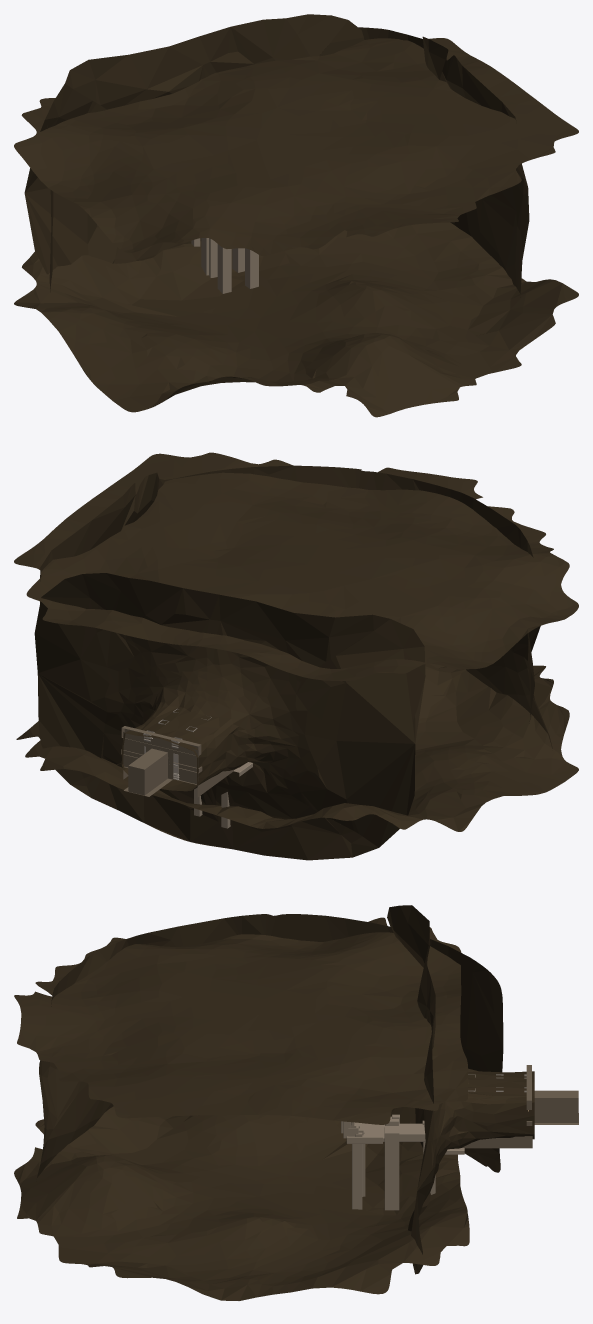
Rendered from RuinsFinalTest.fbx.
3 renders of one model, top to bottom at view 1: azimuth 30°, elevation 25°; view 2: azimuth 150°, elevation 25°; view 3: azimuth 270°, elevation 25°, orthographic. The views are drawn at different scales.
Visible parts, largest first — view 1: pPlane6, pPlane5, CliffFace2, BG1, Bridge, Bridge43, Bridge3; view 2: CliffFace2, pPlane6, pPlane5, BG1, pCube17, pCube53, Floor; view 3: pPlane6, pPlane5, BG1, CliffFace2, pCube53, Bridge2, Floor, Bridge3, Bridge27.
Boxes of the visible parts, left/top/right/bottom form: pPlane6: left=14, top=38, right=578, bottom=256; pPlane5: left=14, top=222, right=578, bottom=417; CliffFace2: left=24, top=14, right=364, bottom=274; BG1: left=47, top=27, right=529, bottom=297; Bridge: left=217, top=244, right=231, bottom=293; Bridge43: left=201, top=238, right=217, bottom=277; Bridge3: left=245, top=248, right=258, bottom=288; CliffFace2: left=34, top=573, right=425, bottom=860; pPlane6: left=14, top=452, right=578, bottom=681; pPlane5: left=16, top=663, right=578, bottom=831; BG1: left=40, top=465, right=552, bottom=748; pCube17: left=123, top=732, right=198, bottom=784; pCube53: left=128, top=748, right=167, bottom=795; Floor: left=123, top=766, right=233, bottom=797; pPlane6: left=14, top=917, right=467, bottom=1124; pPlane5: left=14, top=1106, right=469, bottom=1300; BG1: left=37, top=914, right=503, bottom=1177; CliffFace2: left=387, top=905, right=534, bottom=1274; pCube53: left=534, top=1090, right=578, bottom=1122; Bridge2: left=384, top=1127, right=399, bottom=1210; Floor: left=462, top=1113, right=578, bottom=1148; Bridge3: left=352, top=1144, right=362, bottom=1209; Bridge27: left=346, top=1123, right=382, bottom=1143.
Size of the model in its own units: 210 by 117 by 240.
